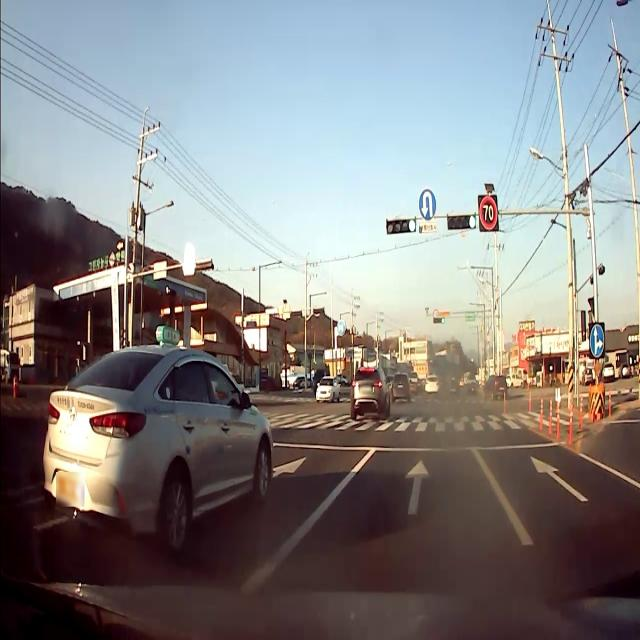Green Light: (468, 214, 476, 230), (408, 219, 416, 233), (440, 317, 444, 323)
